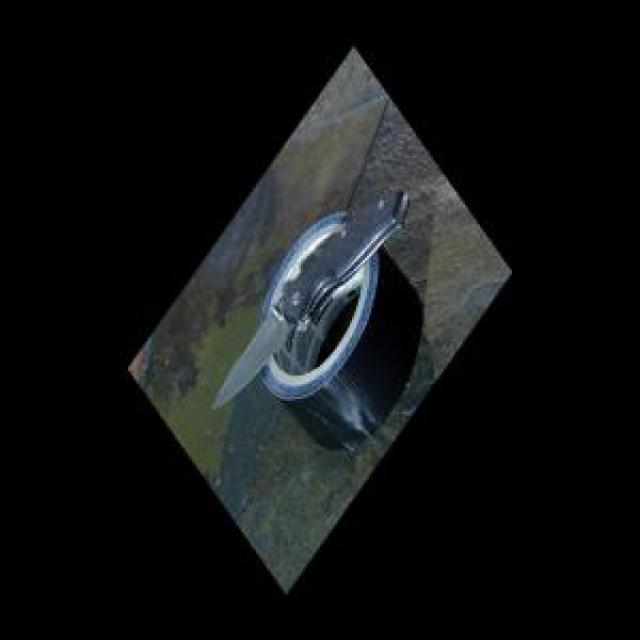knife: (205, 175, 415, 415)
